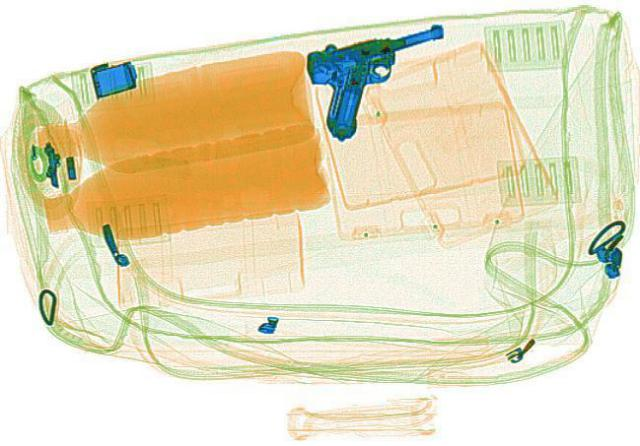Gun: (298, 20, 472, 141)
